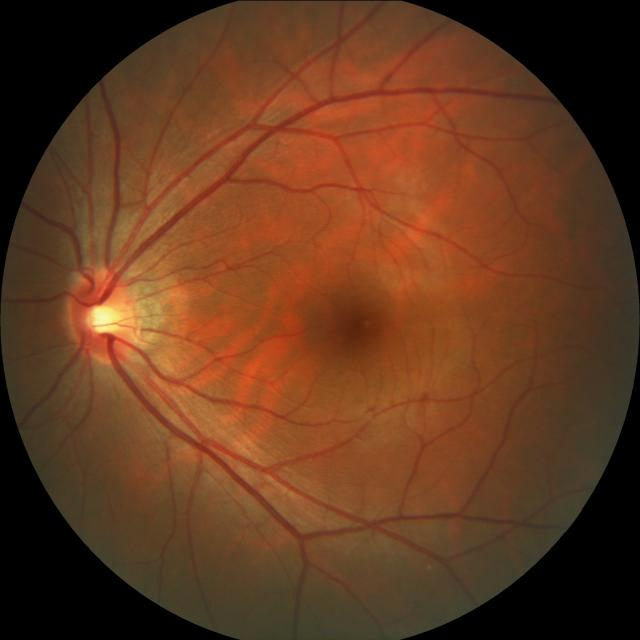OC: (84, 300, 120, 336)
OD: (62, 265, 138, 363)
